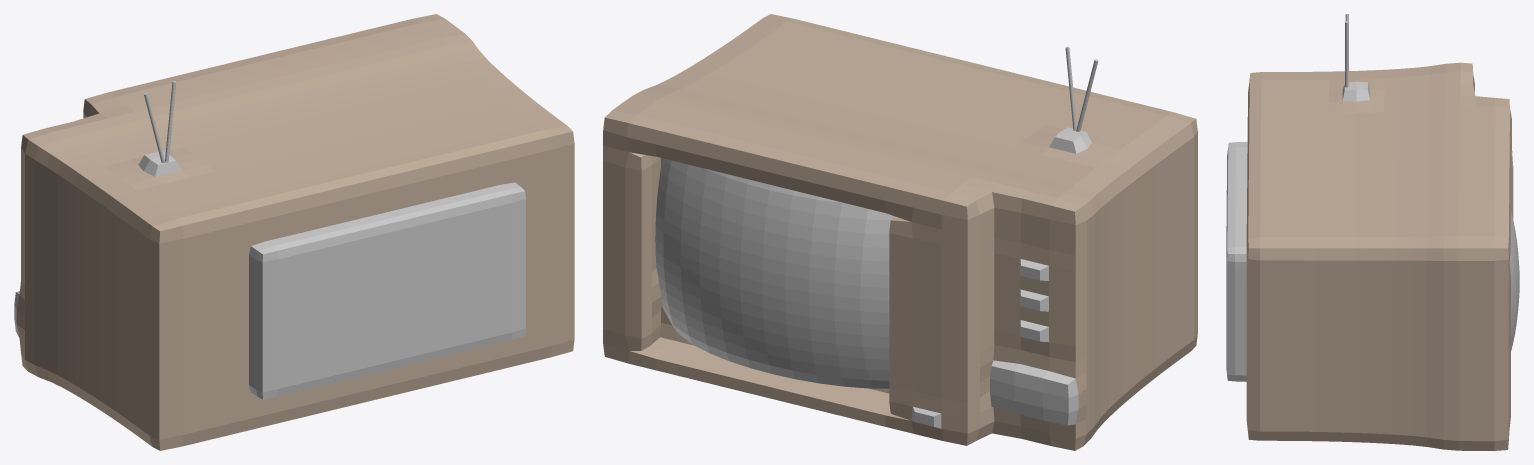
3 renders of one model, left to right at view 1: azimuth 30°, elevation 25°; view 2: azimuth 150°, elevation 25°; view 3: azimuth 270°, elevation 25°, orthographic. The views are drawn at different scales.
Visible parts, largest first — view 1: Cube.010; view 2: Cube.010; view 3: Cube.010.
Part boxes in pixels (box(x1,y1,x2,y2)): Cube.010: box(14, 14, 574, 450); Cube.010: box(603, 14, 1197, 450); Cube.010: box(1226, 14, 1519, 450).
Size of the model in its own units: 192 by 133 by 127.
